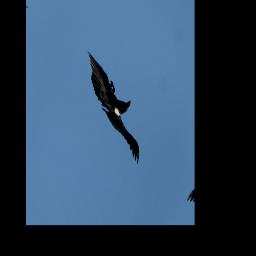Crow: (68, 51, 158, 166)
